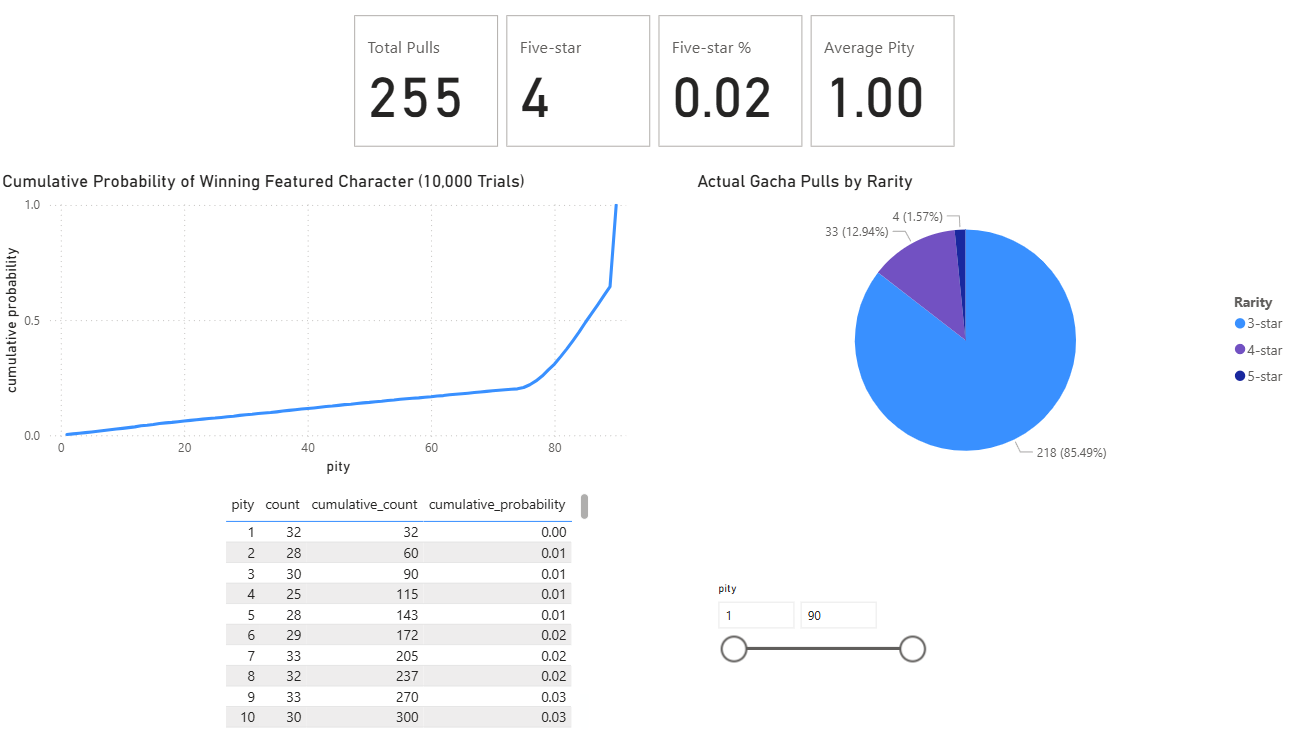

The dashboard page shown, as its layout file describes it:
{"tool":"powerbi","page":{"name":"Page 1","canvas":[1280,720],"ordinal":0},"visuals":[{"type":"pieChart","title":"Actual Gacha Pulls by Rarity","fields":{"Category":["Character Banner Pull History.Rarity"],"Y":["CountNonNull(Character Banner Pull History.Entity Name)"]},"box":[675.9,170.7,589,310.1],"z":0},{"type":"cardVisual","fields":{"Data":["Character Banner Pull History.TotalPulls","Character Banner Pull History.FiveStars","Character Banner Pull History.Percent5Star","Character Banner Pull History.AveragePity"]},"box":[342.5,14.1,596.1,138.4],"z":1000},{"type":"lineChart","title":"Cumulative Probability of Winning Featured Character (10,000 Trials)","fields":{"Category":["sim_character_cumulative_summary.pity"],"Y":["Sum(sim_character_cumulative_summary.cumulative_probability)"]},"box":[0,170.7,617.3,300],"z":2000},{"type":"slicer","fields":{"Values":["sim_character_cumulative_summary.pity"]},"box":[689,565.7,223.3,128.3],"z":3000},{"type":"tableEx","fields":{"Values":["sim_character_cumulative_summary.pity","sim_character_cumulative_summary.count","sim_character_cumulative_summary.cumulative_count","sim_character_cumulative_summary.cumulative_probability"]},"box":[216.8,479.3,363.8,241.2],"z":3001}]}

Visuals, with their boxes in screenshot pixels (x1, y1, x2, y2), scaled from the page's 1280x720 canvas onto the 1308x731 screenshot:
"Actual Gacha Pulls by Rarity" pieChart: Rect(691, 173, 1293, 488)
cardVisual - Character Banner Pull History.TotalPulls x Character Banner Pull History.FiveStars: Rect(350, 14, 959, 155)
"Cumulative Probability of Winning Featured Character (10,000 Trials)" lineChart: Rect(0, 173, 631, 478)
slicer - sim_character_cumulative_summary.pity: Rect(704, 574, 932, 705)
tableEx - sim_character_cumulative_summary.pity x sim_character_cumulative_summary.count: Rect(222, 487, 593, 730)
